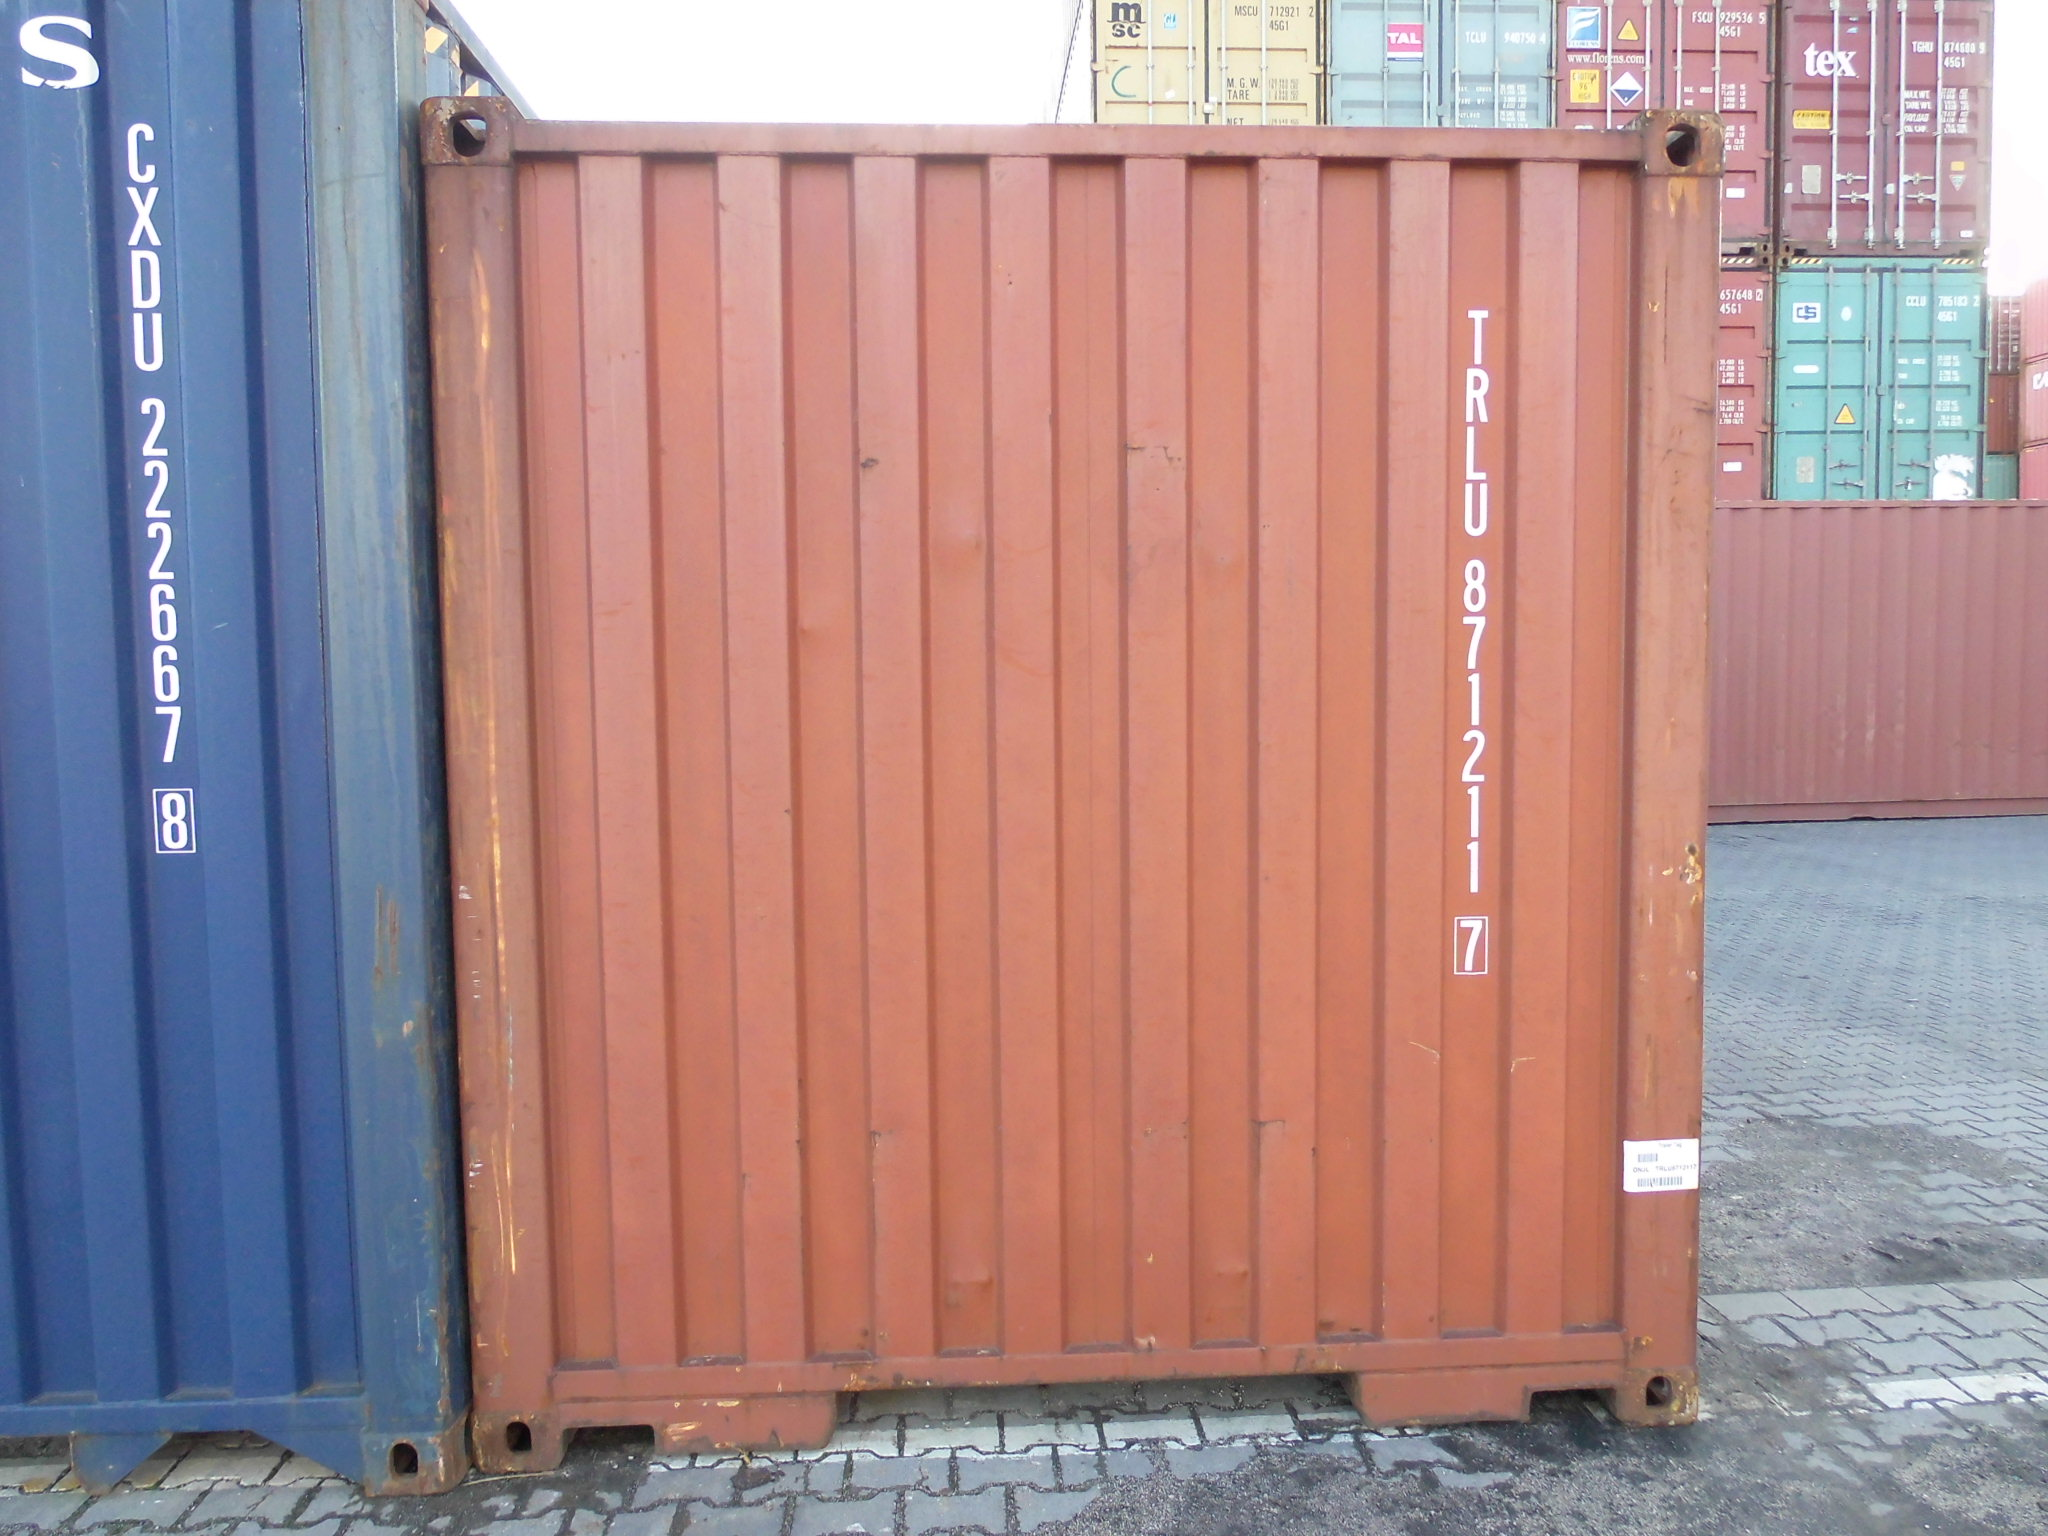container_no_door: (416, 97, 1709, 1442)
